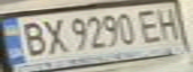0: (115, 10, 139, 46)
2: (84, 12, 106, 51)
9: (66, 14, 90, 52), (103, 11, 124, 47)
B: (15, 18, 51, 57)
E: (136, 7, 166, 44)
H: (151, 4, 184, 42)
X: (39, 16, 69, 55)
